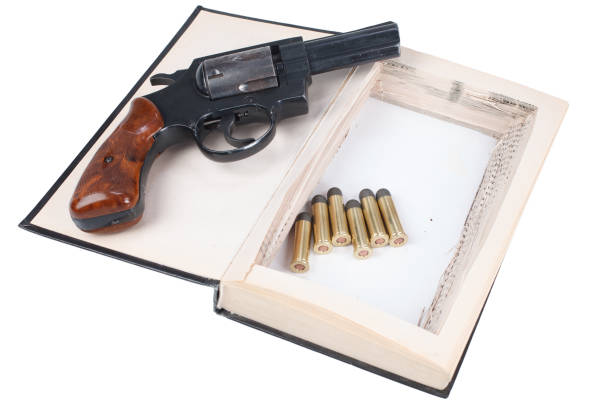gun: (68, 21, 403, 236)
